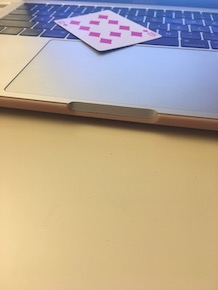TenOfDiamonds: (53, 7, 164, 54)
